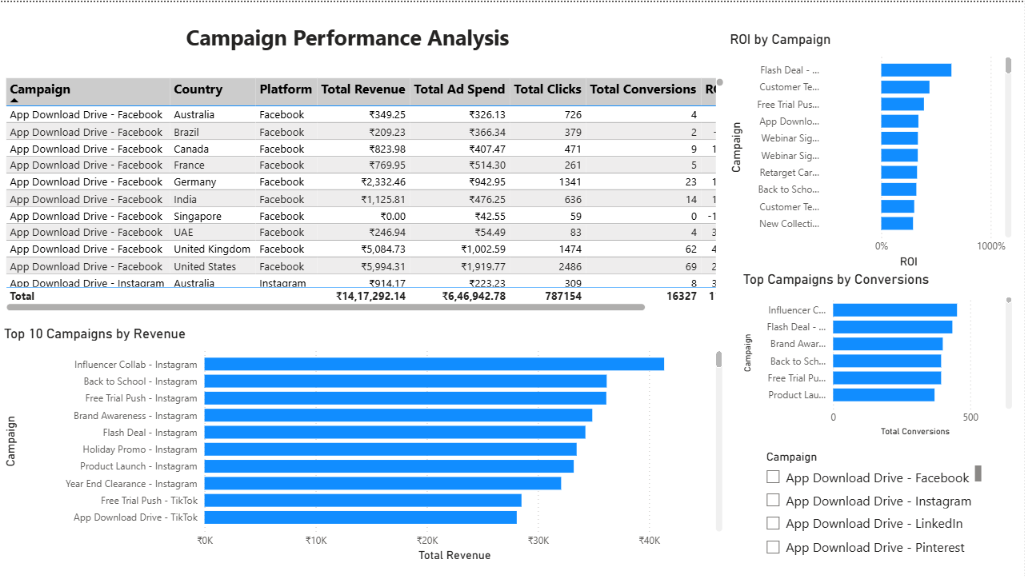

This screenshot's page, from the dashboard's own definition file:
{"tool":"powerbi","page":{"name":"Page 2","canvas":[1280,720],"ordinal":1},"visuals":[{"type":"tableEx","fields":{"Values":["Campaign Data.Campaign","Campaign Data.Country","Campaign Data.Platform","Measures Table.Total Revenue","Measures Table.Total Ad Spend","Measures Table.Total Clicks","Measures Table.Total Conversions","Measures Table.ROI","Measures Table.CTR"]},"box":[1.4,89.8,908,300.8],"z":0},{"type":"clusteredBarChart","title":"Top 10 Campaigns by Revenue","fields":{"Category":["Campaign Data.Campaign"],"Y":["Measures Table.Total Revenue"]},"box":[0,403.4,908,300.8],"z":1},{"type":"clusteredBarChart","fields":{"Category":["Campaign Data.Campaign"],"Y":["Measures Table.ROI"]},"box":[908,35.6,362,300.8],"z":2},{"type":"clusteredBarChart","title":"Top Campaigns by Conversions","fields":{"Category":["Campaign Data.Campaign"],"Y":["Measures Table.Total Conversions"]},"box":[923.7,336.4,346.4,211],"z":3},{"type":"slicer","fields":{"Values":["Campaign Data.Campaign"]},"box":[945,554.5,286.5,149.7],"z":4},{"type":"textbox","box":[228.1,20,508.9,52.7],"z":5}]}

Visuals, with their boxes in screenshot pixels (x1, y1, x2, y2), scaled from the page's 1280x720 canvas onto the 1025x577 screenshot:
tableEx - Campaign Data.Campaign x Campaign Data.Country: bbox=(1, 72, 728, 313)
"Top 10 Campaigns by Revenue" clusteredBarChart: bbox=(0, 323, 727, 564)
clusteredBarChart - Campaign Data.Campaign x Measures Table.ROI: bbox=(727, 29, 1017, 270)
"Top Campaigns by Conversions" clusteredBarChart: bbox=(740, 270, 1017, 439)
slicer - Campaign Data.Campaign: bbox=(757, 444, 986, 564)
textbox: bbox=(183, 16, 590, 58)
